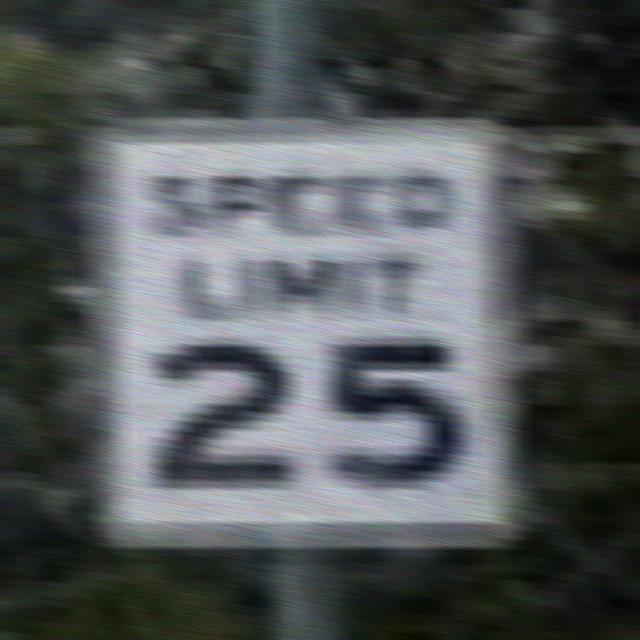speedLimit25: (97, 122, 520, 543)
